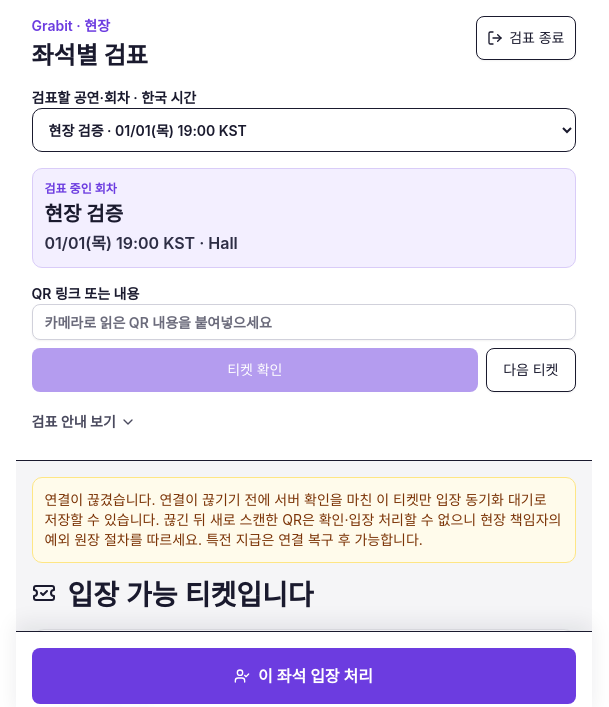
Scenario: FieldCheckInPage benefit redemption showtime contract › stores an offline entry as pending and disables benefit redemption
Click the button "이 좌석 입장 처리": (304, 676) [32,648,576,704]
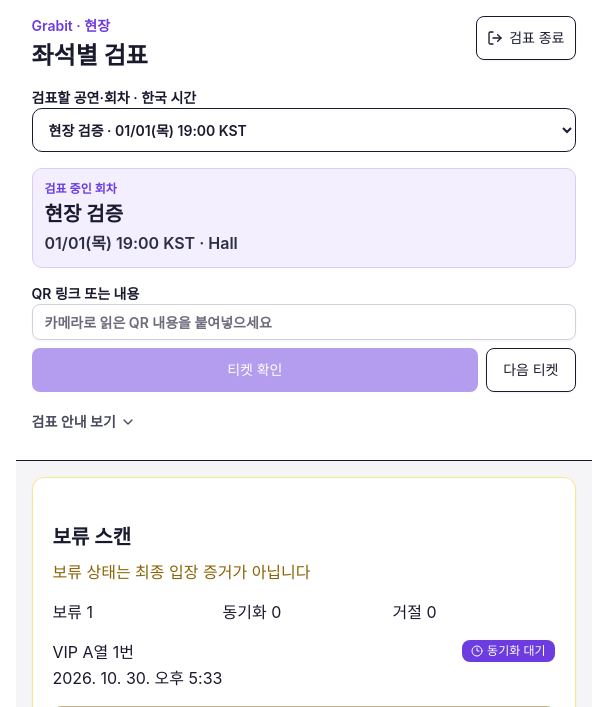
Now the text "보류 상태는 최종 입장 증거가 아닙니다" is shown, box [52,562,310,582]
